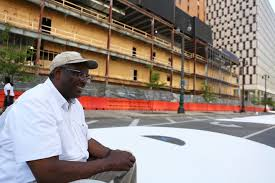no-mask: (49, 45, 92, 101)
